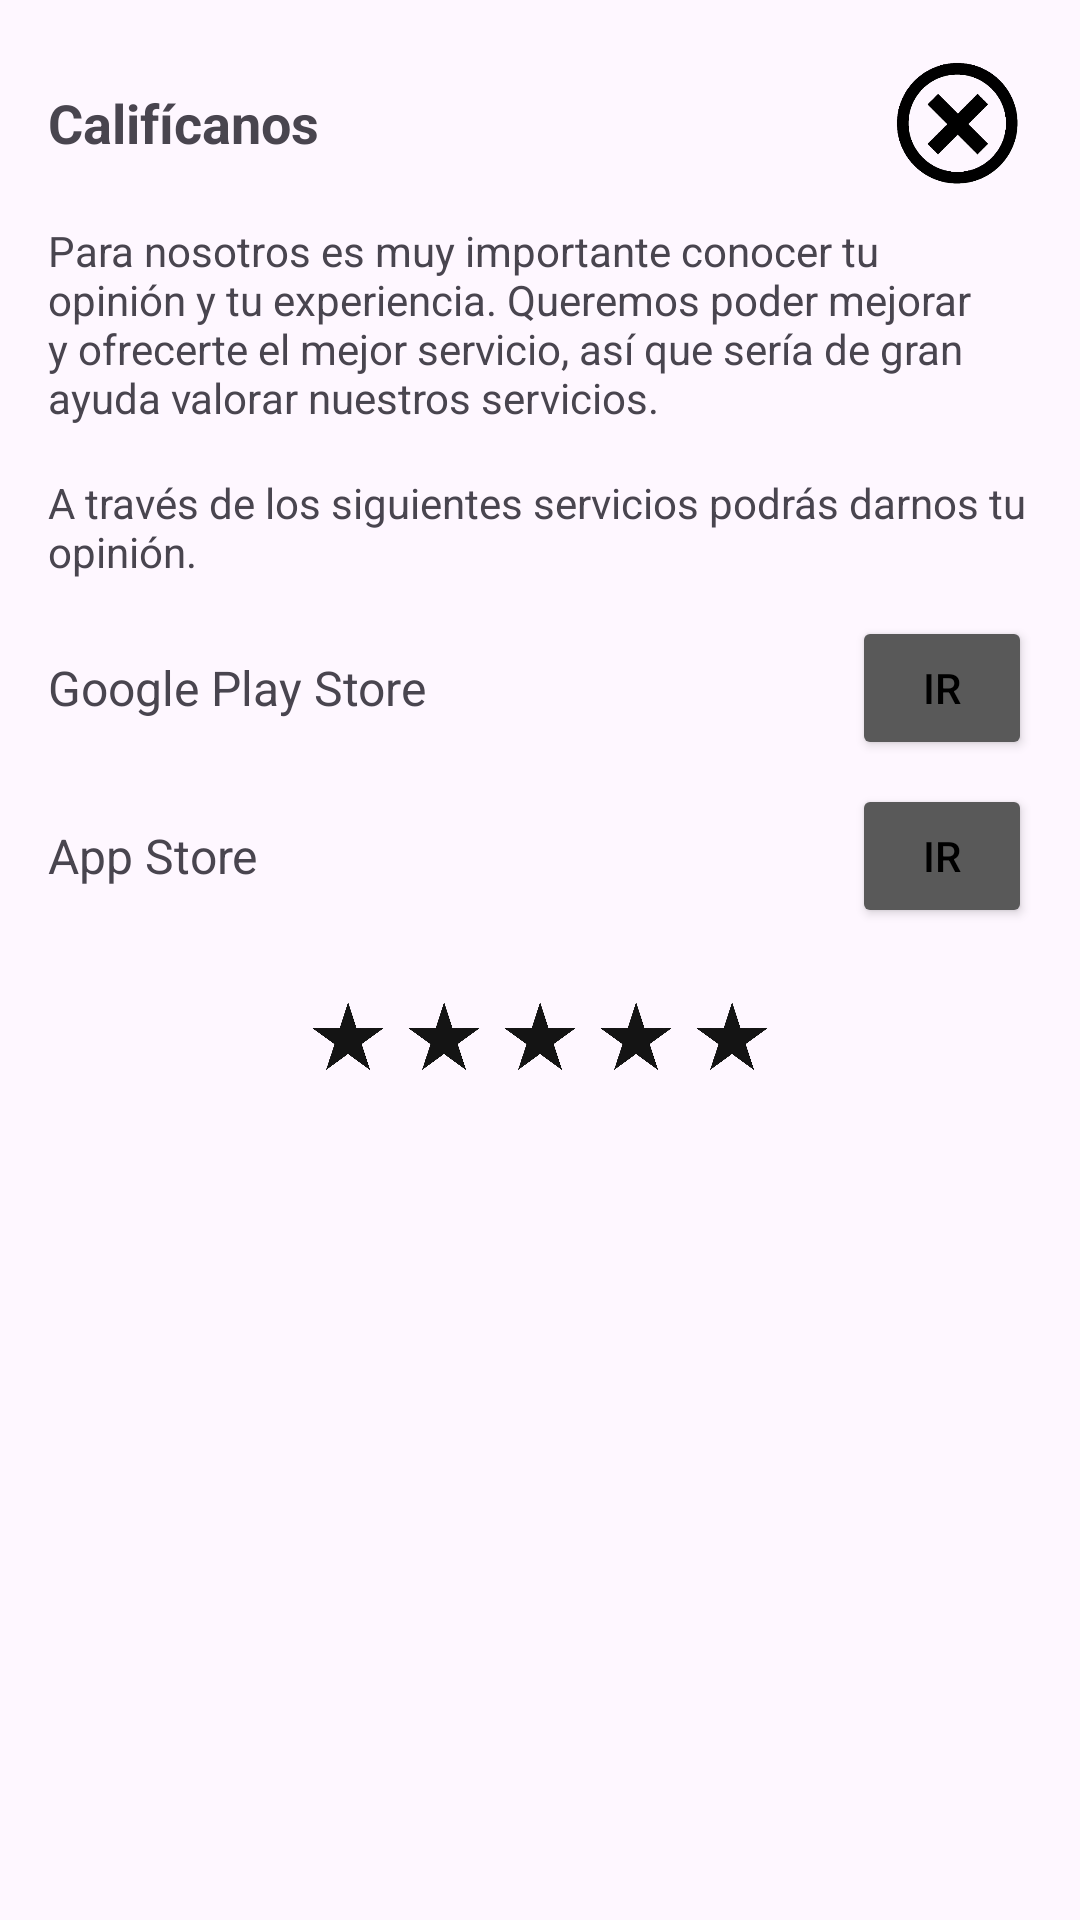

Icons on this 1080px×1920px Android screen, each with its box as (x1, y1, x2, y2):
Cerrar: (897, 63, 1018, 184)
star: (313, 1003, 383, 1070), (409, 1003, 479, 1070), (505, 1003, 575, 1070), (601, 1003, 671, 1070), (697, 1003, 767, 1070)
